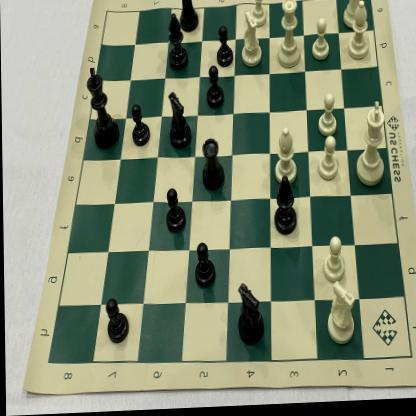black-bishop: (270, 176, 298, 243), (166, 10, 188, 78)
black-king: (84, 62, 122, 154)
black-knight: (234, 282, 266, 350), (164, 89, 192, 156)
black-pawn: (102, 295, 130, 349), (191, 237, 217, 292), (164, 183, 188, 240), (127, 103, 151, 153), (204, 64, 226, 113), (214, 24, 236, 70)
black-rook: (198, 134, 226, 196), (178, 0, 202, 37)
white-bishop: (344, 1, 374, 67), (271, 125, 300, 191)
white-king: (350, 100, 390, 196)
white-knight: (323, 281, 359, 353), (238, 10, 265, 72)
white-pawn: (314, 134, 340, 188), (321, 235, 347, 288), (315, 91, 341, 142), (308, 18, 332, 64), (245, 0, 272, 31)
white-queen: (274, 0, 304, 76)
white-rook: (338, 0, 370, 36)
